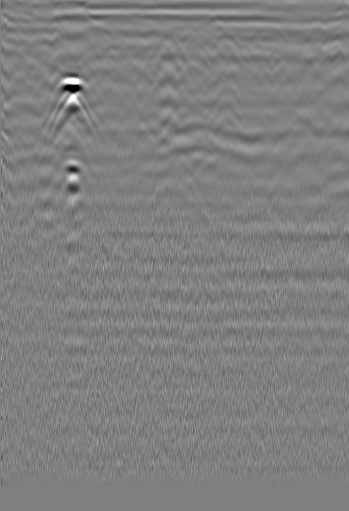가스: (50, 153, 90, 192)
상수: (306, 25, 326, 45)
오수: (11, 23, 31, 43)
우수: (151, 35, 171, 55)
